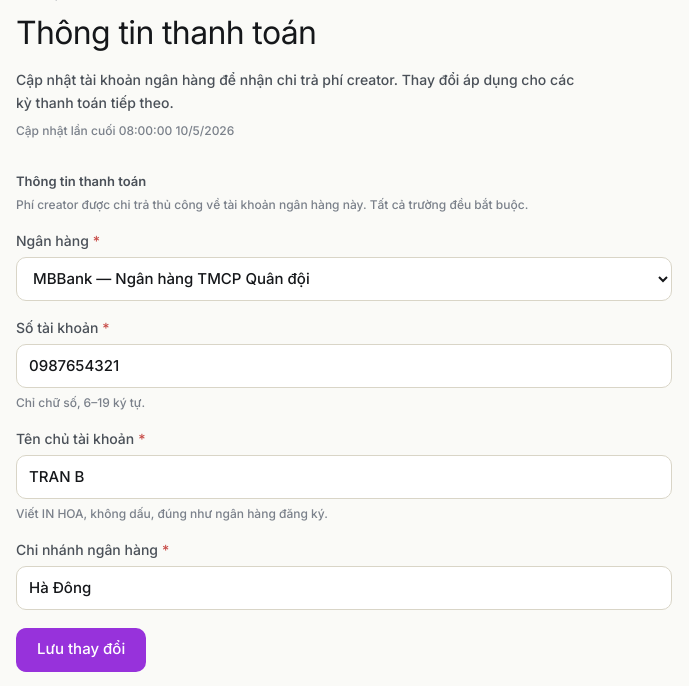
PayoutSettingsPage › shows server error message when update fails
The image size is (689, 686).
(page scrolled)
Step 1. Click the button with test id "payout-settings-save" → (81, 650), box 16,628 -> 146,672
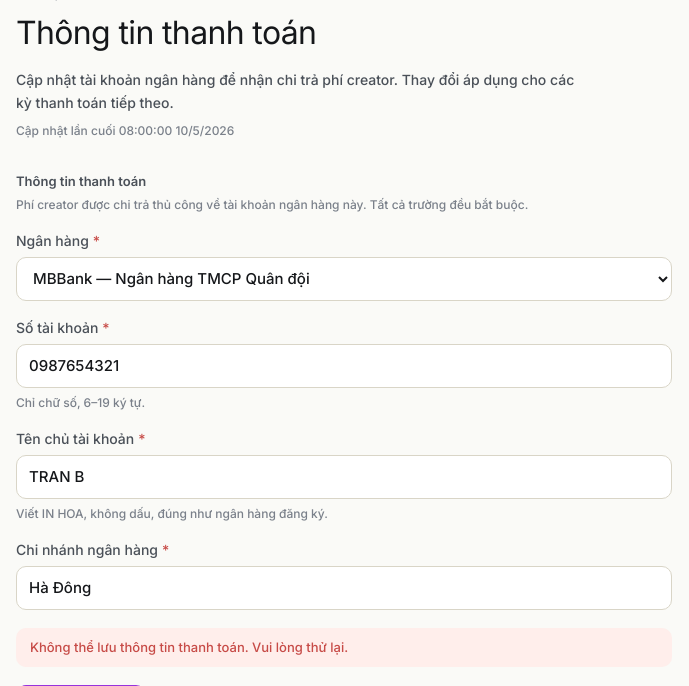
Expected: the message with test id "payout-settings-error" shows "lưu thông tin thanh toán", 30,638 -> 348,654
